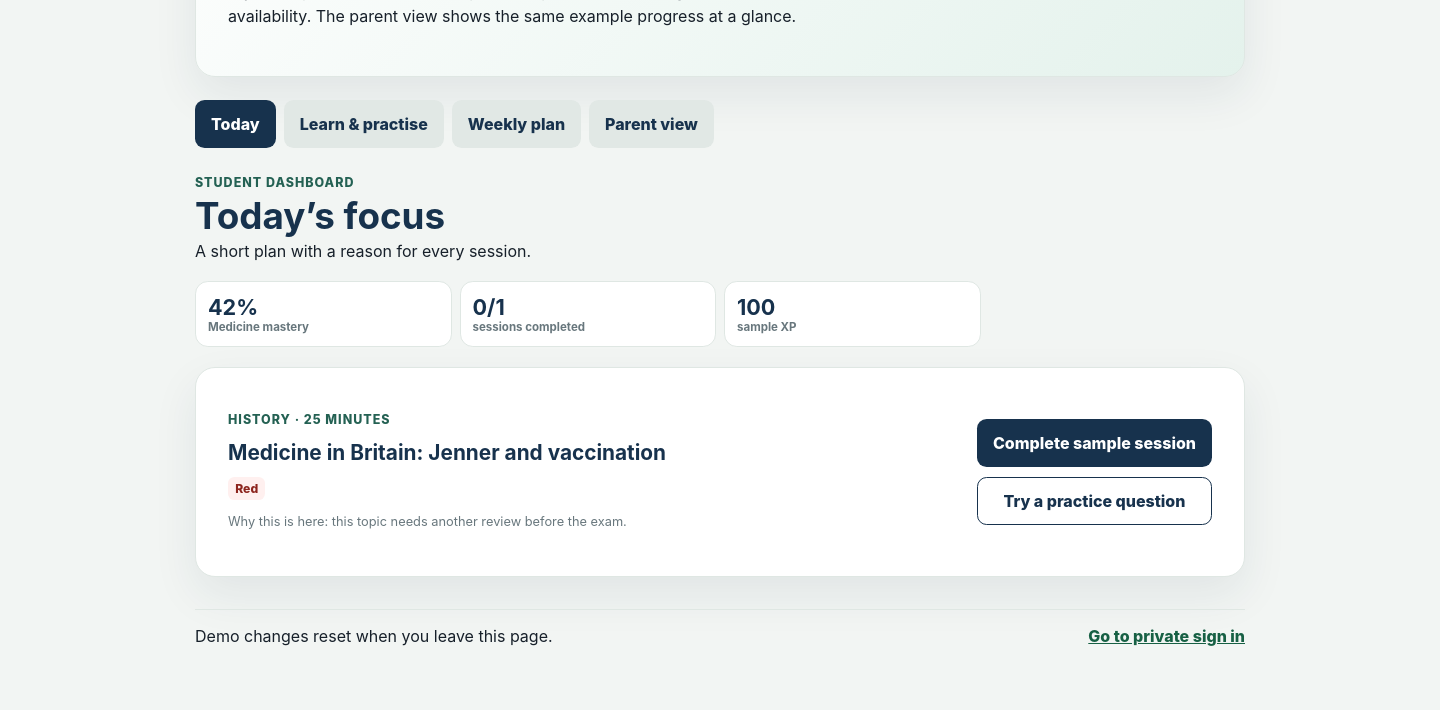
Test: public demo › lets a visitor complete a sample session and see the parent summary change
The image size is (1440, 710).
(page scrolled)
Click the button "Complete sample session".
click(1094, 443)  # box x1=977 y1=419 x2=1212 y2=467
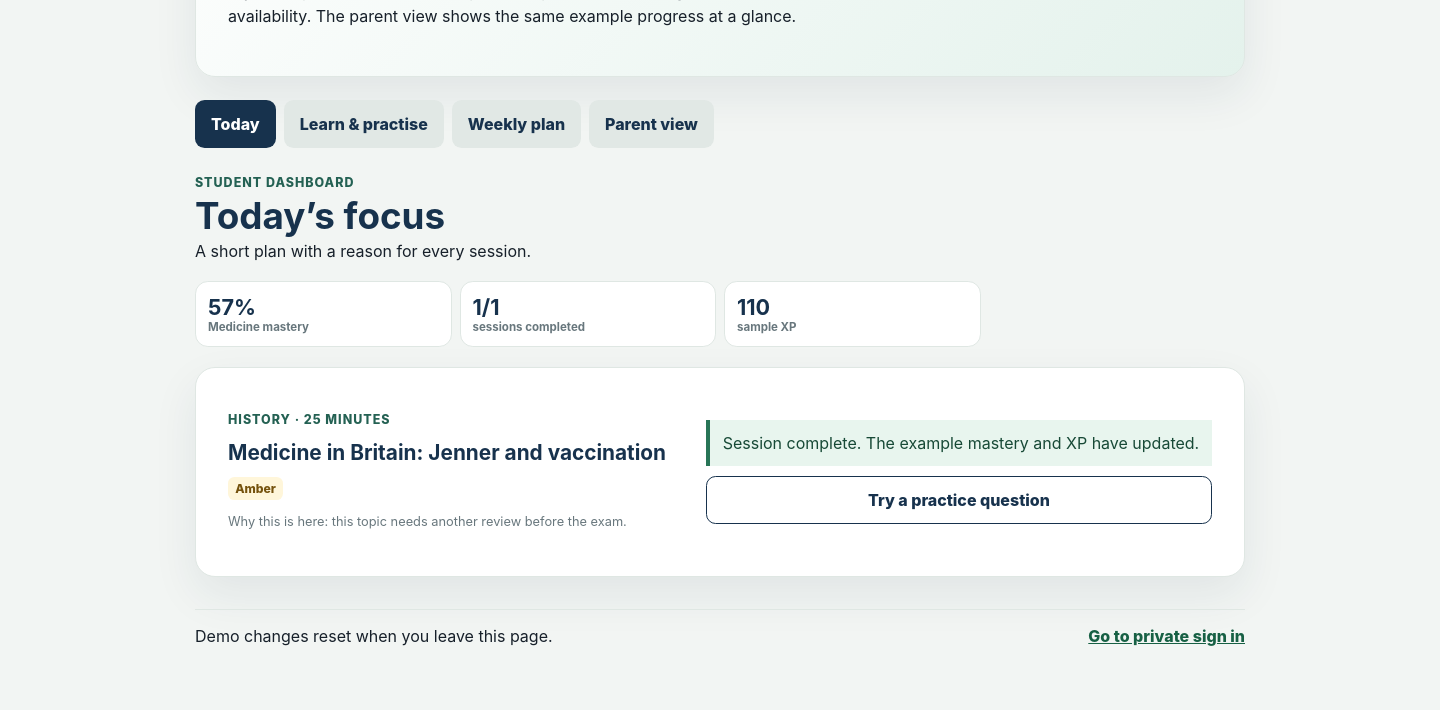
Now the message shows "Session complete", box x1=723 y1=433 x2=1199 y2=453
Click the button "Parent view".
click(652, 124)  # box x1=589 y1=100 x2=714 y2=148
(page scrolled)
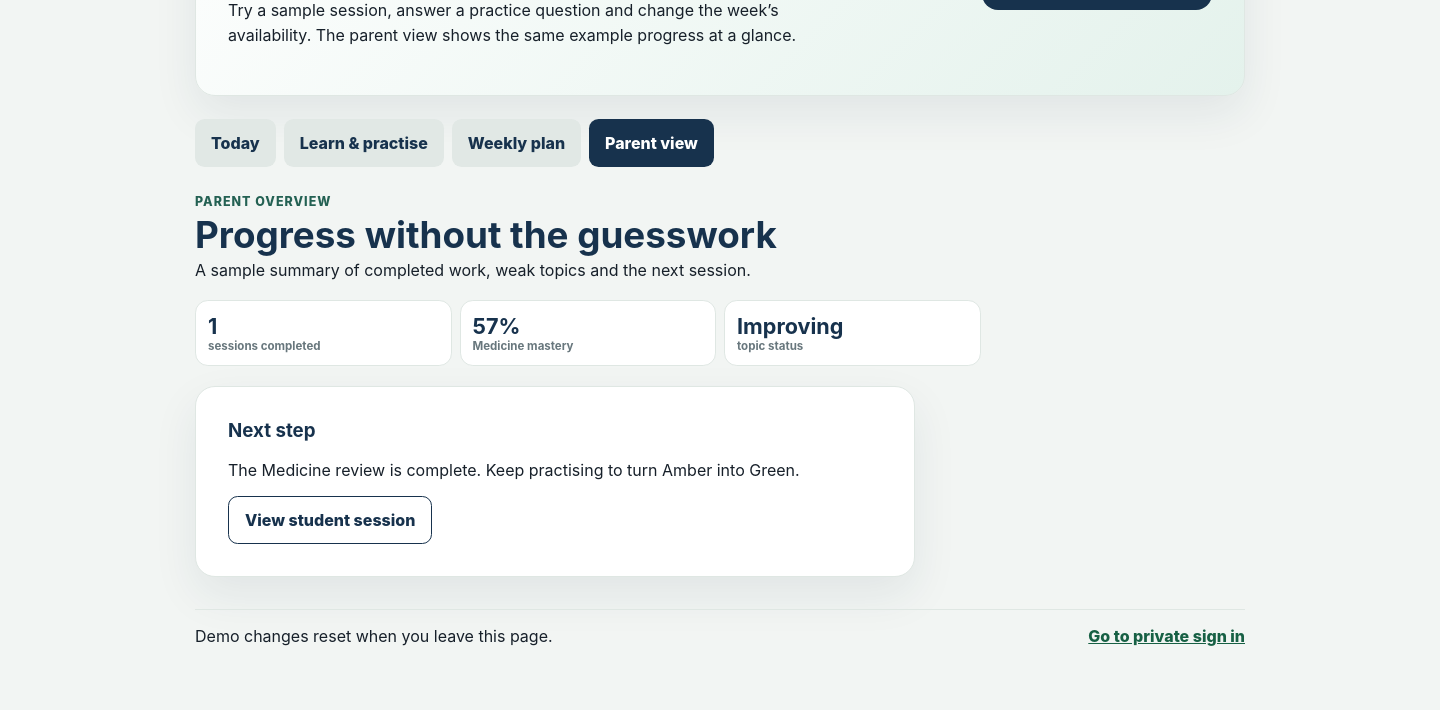
Now the text "The Medicine review is complete. Keep practising to turn Amber into Green." is shown, box x1=228 y1=460 x2=882 y2=480
